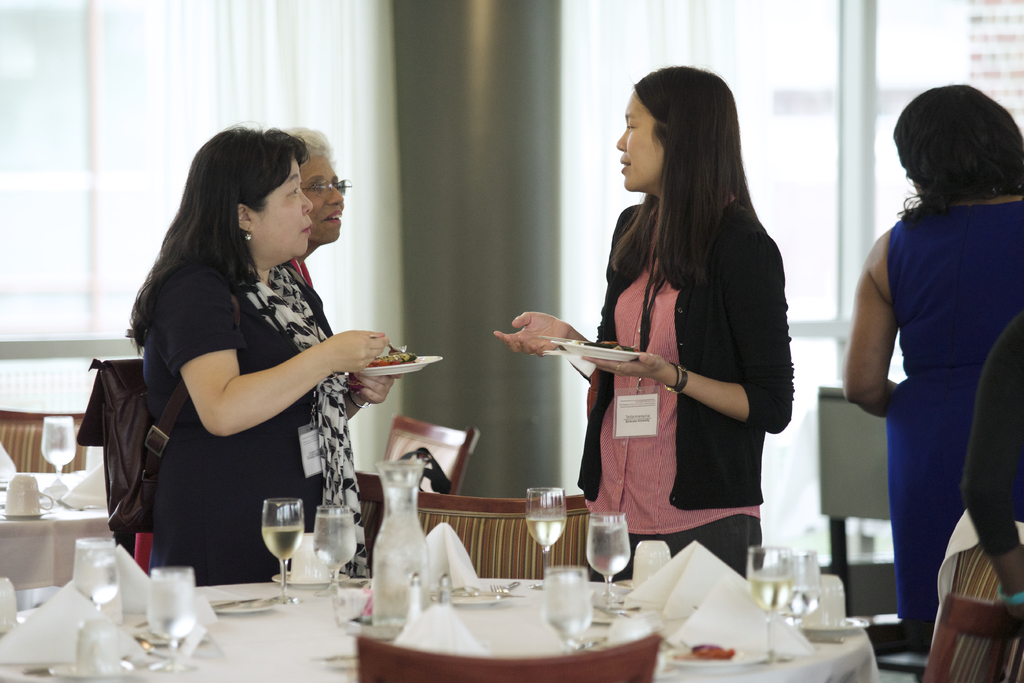Table: (2, 576, 881, 682)
